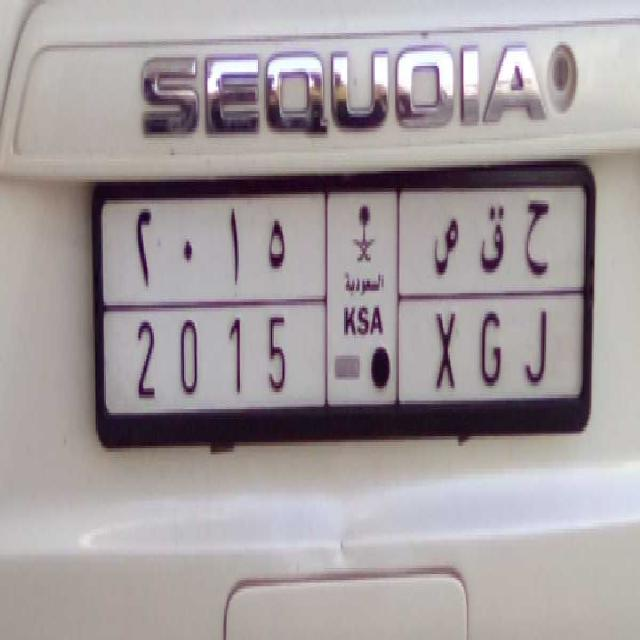license_plate: (113, 298, 571, 420)
